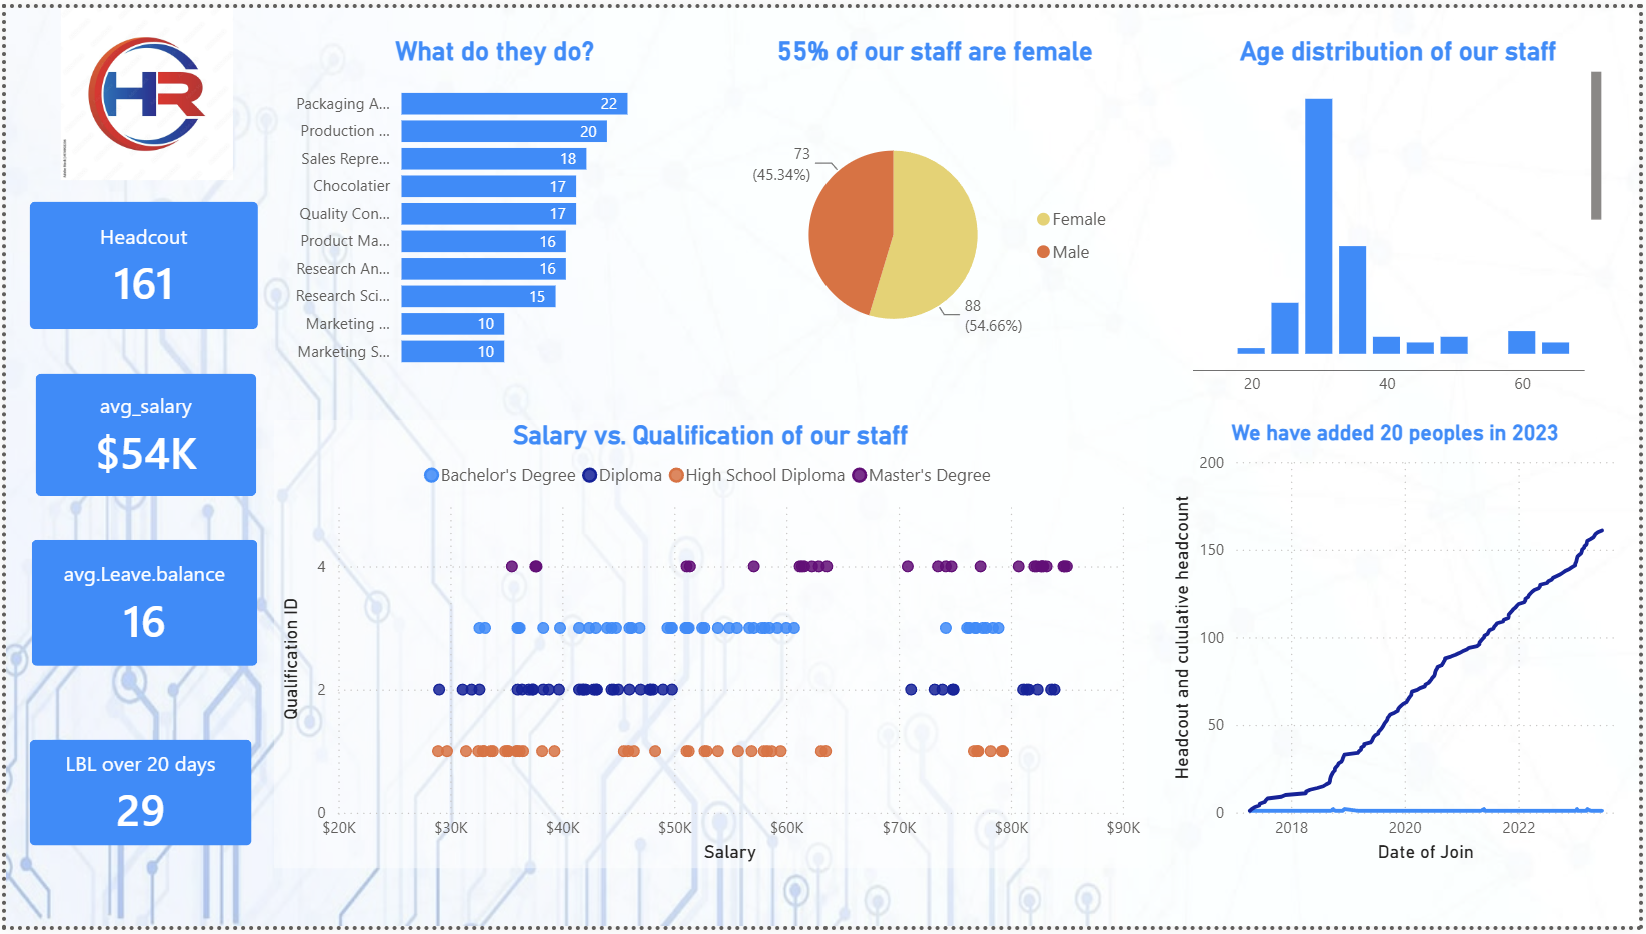

What the dashboard file says about the page in this screenshot:
{"tool":"powerbi","page":{"name":"Page 10","canvas":[1280,720],"ordinal":9},"visuals":[{"type":"cardVisual","fields":{"Data":["Staff.Headcout"]},"box":[1.6,134.9,213.3,134.9],"z":0},{"type":"cardVisual","fields":{"Data":["Staff.avg_salary"]},"box":[6.3,269.8,207.1,130.2],"z":1000},{"type":"cardVisual","fields":{"Data":["Staff.avg.Leave.balance"]},"box":[3.1,400,211.8,133.3],"z":2000},{"type":"cardVisual","fields":{"Data":["Staff.LBL over 20 days"]},"box":[1.6,556.9,208.6,117.6],"z":3000},{"type":"clusteredBarChart","title":"What do they do?","fields":{"Category":["Staff.Job Title"],"Y":["Staff.Headcout"]},"box":[210.2,22,429.8,258.8],"z":4000},{"type":"pieChart","title":"55% of our staff are female","fields":{"Category":["Staff.Gender"],"Y":["CountNonNull(Staff.Emp ID)"]},"box":[610.2,22,298,291.8],"z":5000},{"type":"columnChart","title":"Age distribution of our staff","fields":{"Rows":["Staff.Gender"],"Y":["Staff.Headcout"],"Category":["Staff.Age (bins) 2"]},"box":[925.5,22,331,291.8],"z":6000},{"type":"scatterChart","title":"Salary vs. Qualification of our staff","fields":{"Y":["Qual.Qualification ID"],"X":["Staff.Salary"],"Series":["Qual.Qualification"]},"box":[210.2,323.1,683.9,351.4],"z":7000},{"type":"lineChart","title":"We have added 20 peoples in 2023","fields":{"Y":["Staff.Headcout","Staff.cululative headcount"],"Category":["Staff.Date of Join"]},"box":[908.2,323.1,360.8,351.4],"z":8000},{"type":"image","box":[0,0,221.2,134.9],"z":9000}]}

Visuals, with their boxes in screenshot pixels (x1, y1, x2, y2), scaled from the page's 1280x720 canvas onto the 1646x934 screenshot:
cardVisual - Staff.Headcout: bbox=(2, 175, 276, 350)
cardVisual - Staff.avg_salary: bbox=(8, 350, 274, 519)
cardVisual - Staff.avg.Leave.balance: bbox=(4, 519, 276, 692)
cardVisual - Staff.LBL over 20 days: bbox=(2, 722, 270, 875)
"What do they do?" clusteredBarChart: bbox=(270, 29, 823, 364)
"55% of our staff are female" pieChart: bbox=(785, 29, 1168, 407)
"Age distribution of our staff" columnChart: bbox=(1190, 29, 1616, 407)
"Salary vs. Qualification of our staff" scatterChart: bbox=(270, 419, 1150, 875)
"We have added 20 peoples in 2023" lineChart: bbox=(1168, 419, 1632, 875)
image: bbox=(0, 0, 284, 175)
